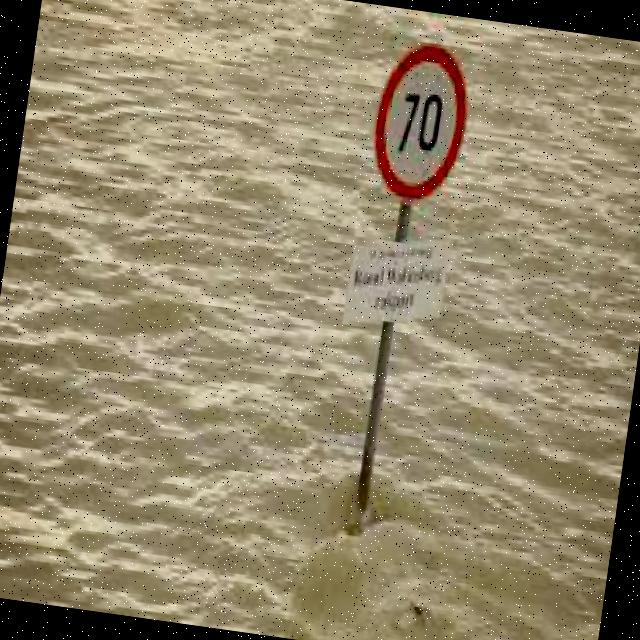Ograniczenie predkosci do 70: (362, 36, 482, 220)
